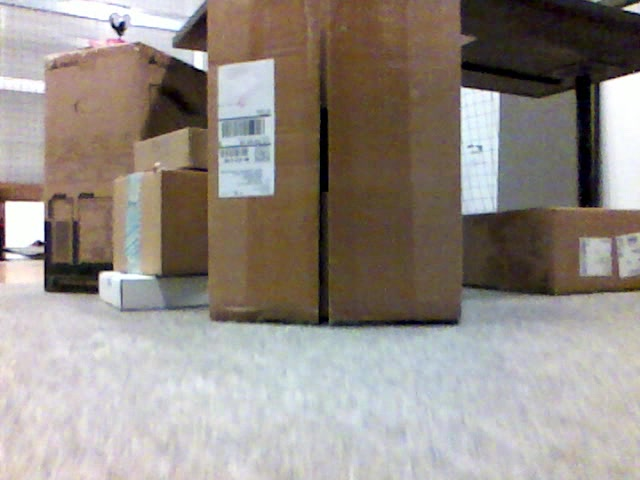box: (207, 1, 462, 321), (46, 52, 211, 300), (464, 207, 640, 293), (112, 165, 211, 272), (129, 124, 210, 169)
